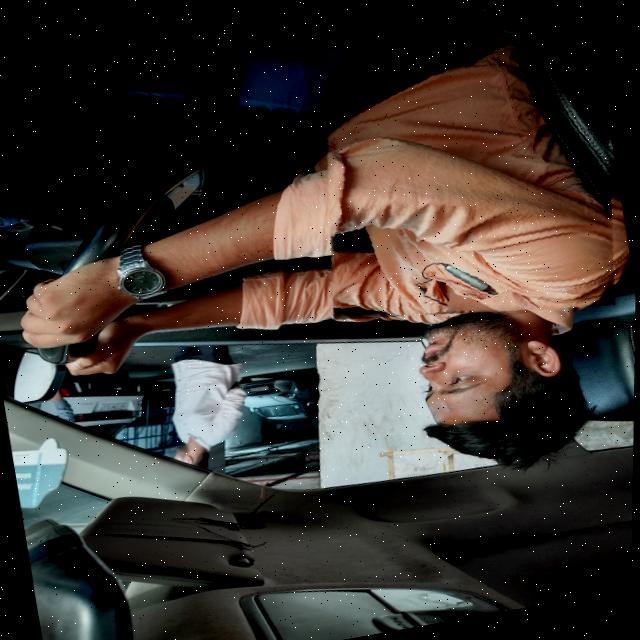no-seatbelt: (288, 0, 640, 343)
